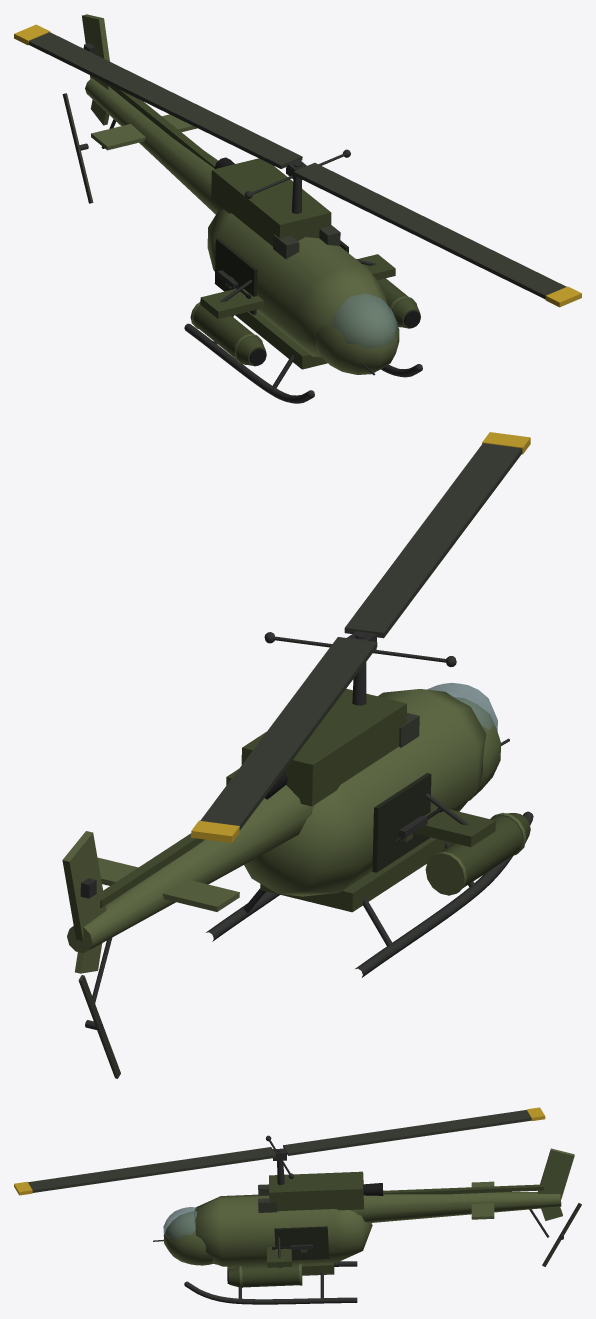
File: uh1c-gunship.glb
3 views of the same model, one above another, from view 1: azimuth 30°, elevation 25°; view 2: azimuth 150°, elevation 25°; view 3: azimuth 270°, elevation 25° (orthographic). The views are drawn at different scales.
Parts seen in each view (by area): view 1: Mesh_Cabin, Mesh_BladeL, Mesh_Cowling, Mesh_BladeR, Mesh_Nose, Mesh_TailBoom, Mesh_Canopy, Mesh_BellyPan, Mesh_DoorR, Mesh_RocketPodR, Mesh_SkidR, Mesh_PylonR (+5 smaller); view 2: Mesh_Cabin, Mesh_TailBoom, Mesh_BladeR, Mesh_BladeL, Mesh_Cowling, Mesh_DoorR, Mesh_BellyPan, Mesh_Fin, Mesh_RocketPodR, Mesh_HStab, Mesh_SkidR, Mesh_PylonR (+6 smaller); view 3: Mesh_Cabin, Mesh_TailBoom, Mesh_Cowling, Mesh_BladeL, Mesh_BladeR, Mesh_Nose, Mesh_DoorL, Mesh_RocketPodL, Mesh_Fin, Mesh_SkidL, Mesh_ShaftCover, Mesh_Canopy (+4 smaller).
Part boxes in pixels (<box>): Mesh_Cabin: <box>207,209,387,357</box>; Mesh_BladeL: <box>28,32,302,168</box>; Mesh_Cowling: <box>211,158,331,246</box>; Mesh_BladeR: <box>293,162,566,299</box>; Mesh_Nose: <box>315,300,399,374</box>; Mesh_TailBoom: <box>85,78,223,214</box>; Mesh_Canopy: <box>333,293,397,348</box>; Mesh_BellyPan: <box>235,311,327,369</box>; Mesh_DoorR: <box>214,238,257,314</box>; Mesh_RocketPodR: <box>193,305,258,362</box>; Mesh_SkidR: <box>184,323,311,403</box>; Mesh_PylonR: <box>200,288,263,318</box>; Mesh_Cabin: <box>244,689,486,896</box>; Mesh_TailBoom: <box>67,785,314,953</box>; Mesh_BladeR: <box>344,443,522,638</box>; Mesh_BladeL: <box>200,637,377,830</box>; Mesh_Cowling: <box>241,688,406,806</box>; Mesh_DoorR: <box>372,773,431,872</box>; Mesh_BellyPan: <box>260,837,453,912</box>; Mesh_Fin: <box>62,831,106,940</box>; Mesh_RocketPodR: <box>440,815,522,887</box>; Mesh_HStab: <box>97,857,239,911</box>; Mesh_SkidR: <box>355,814,532,977</box>; Mesh_PylonR: <box>414,805,495,846</box>; Mesh_Cabin: <box>193,1194,372,1266</box>; Mesh_TailBoom: <box>350,1192,561,1222</box>; Mesh_Cowling: <box>269,1171,363,1211</box>; Mesh_BladeL: <box>283,1110,531,1155</box>; Mesh_BladeR: <box>28,1147,276,1192</box>; Mesh_Nose: <box>163,1211,213,1265</box>; Mesh_DoorL: <box>274,1226,329,1260</box>; Mesh_RocketPodL: <box>239,1264,299,1287</box>; Mesh_Fin: <box>537,1148,574,1199</box>; Mesh_SkidL: <box>186,1282,357,1304</box>; Mesh_ShaftCover: <box>383,1184,543,1194</box>; Mesh_Canopy: <box>163,1207,197,1240</box>.
Size of the model in its own units: 3.71 by 3.96 by 13.86.
